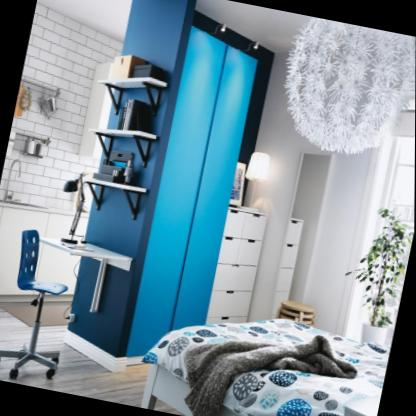Bed: (135, 287, 393, 416)
Chair: (0, 225, 85, 390)
